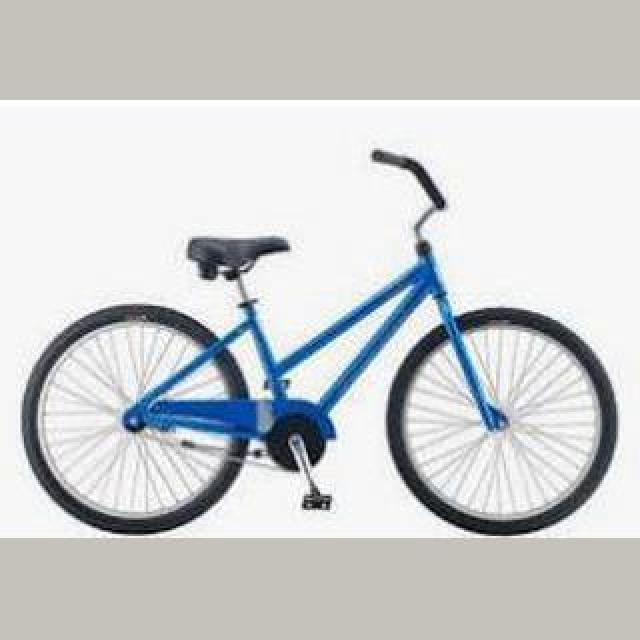Person: (19, 148, 623, 536)
